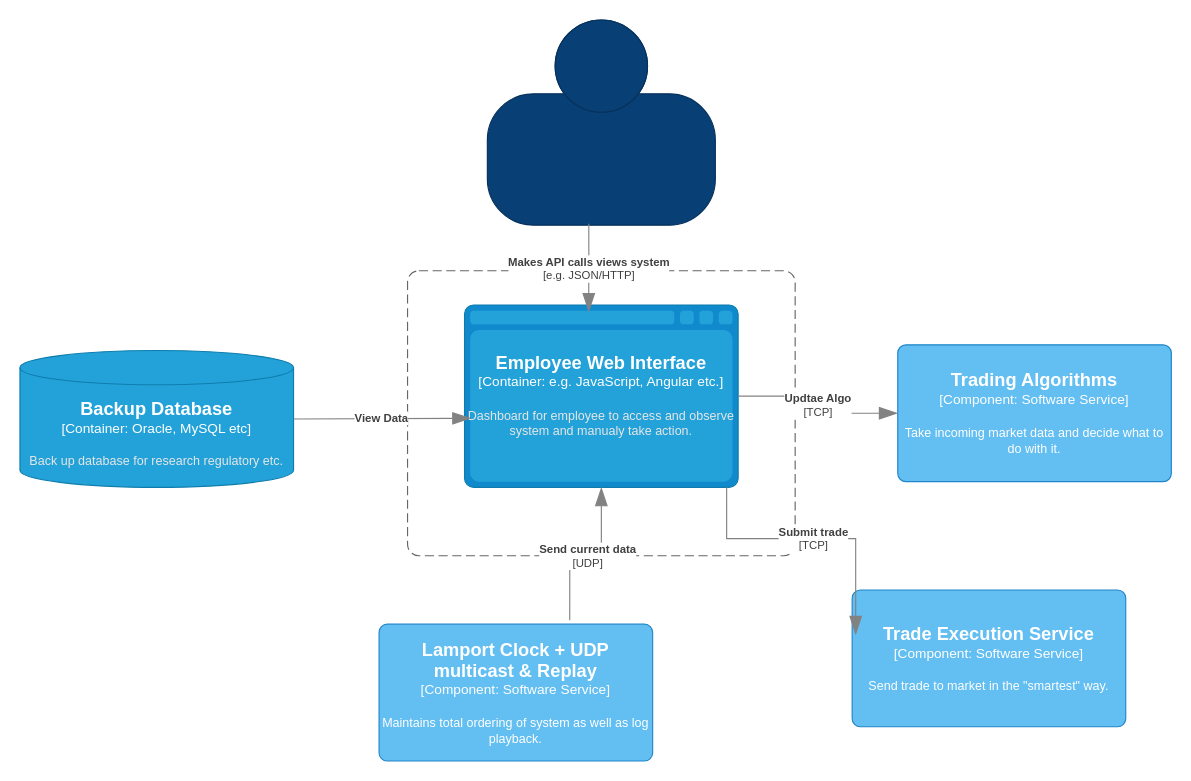
This 1191x781 diagram has some shape labels left out. Each missing label, with the box of its shape:
Bank Employee [Person] Trader/Algorithmist: (486, 19, 715, 225)
Web Interface [Component]: (406, 270, 795, 556)
